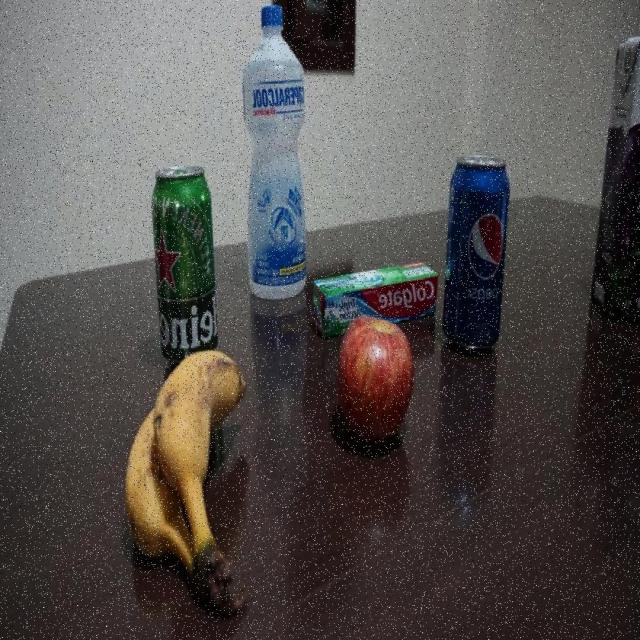AlcoholBottle: (241, 4, 308, 299)
Apple: (337, 317, 413, 453)
Banana: (123, 348, 248, 618)
BeerCan: (151, 164, 219, 366)
SodaCan: (442, 153, 509, 354)
Toothpaste: (310, 260, 440, 342)
